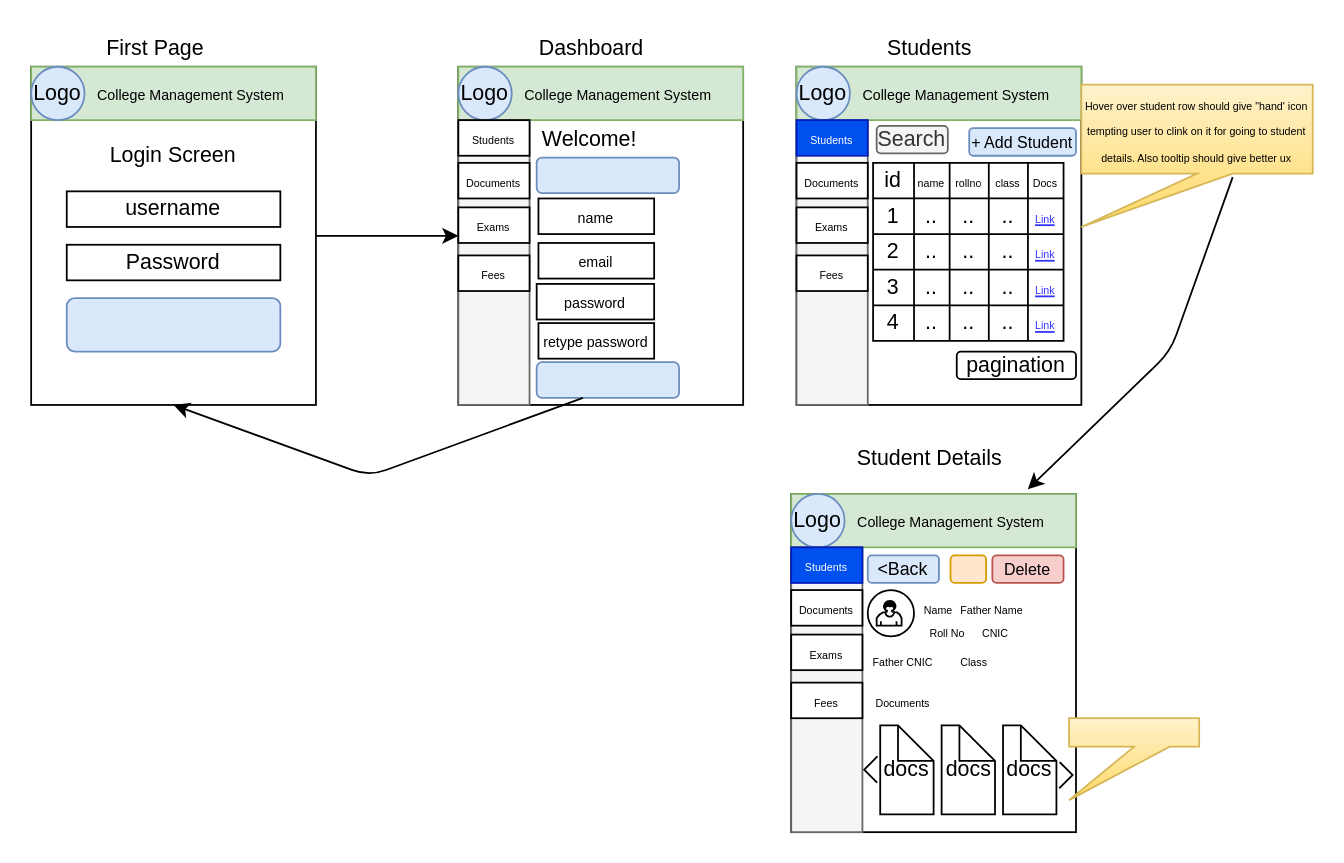
Image size: 1344x863. Some labels were removed from this diagram. Each missing label, with the centre of its shape:
An Image viewer can be...: the point at 1133,758
Edit: the point at 967,568
Edit Account Information: the point at 607,174
Login: the point at 172,324
Update!: the point at 607,379
